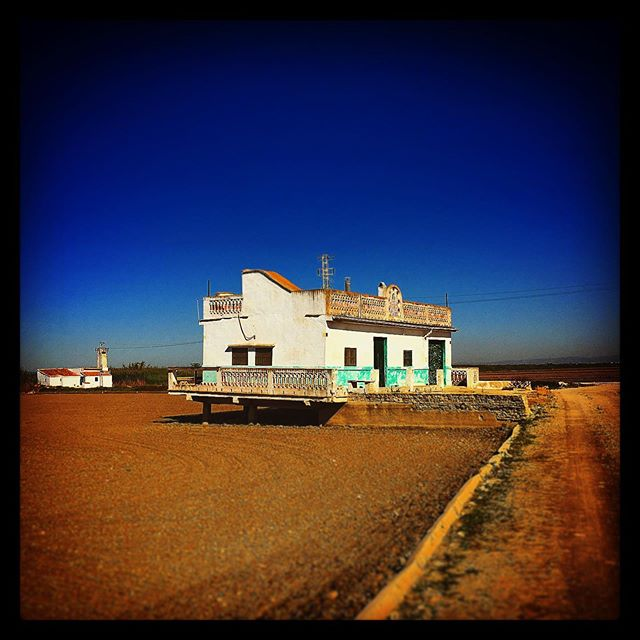building: (187, 285, 459, 427), (35, 353, 118, 390)
sky: (18, 4, 621, 307)
